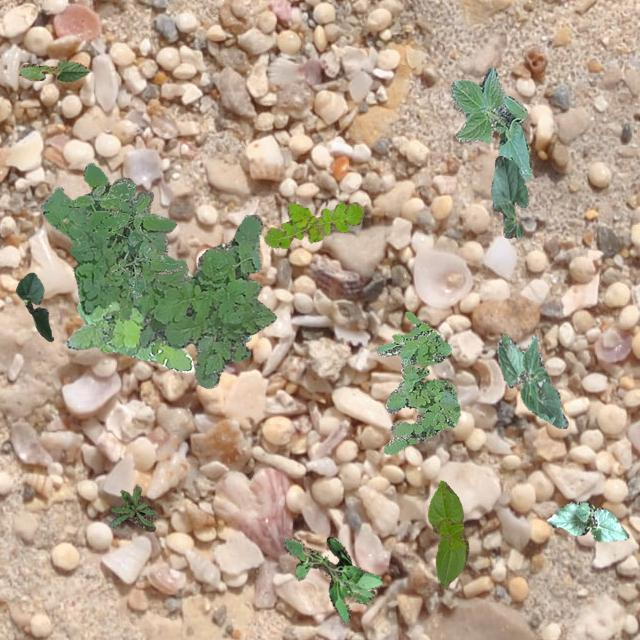crop: (450, 66, 530, 180), (496, 332, 566, 428), (427, 480, 468, 588), (546, 500, 628, 540), (489, 154, 526, 238), (15, 272, 52, 341), (18, 58, 88, 82)
weed: (39, 185, 276, 388), (67, 162, 182, 298), (64, 298, 250, 372), (374, 311, 460, 454), (283, 534, 382, 624), (264, 200, 362, 248), (110, 484, 156, 530)
